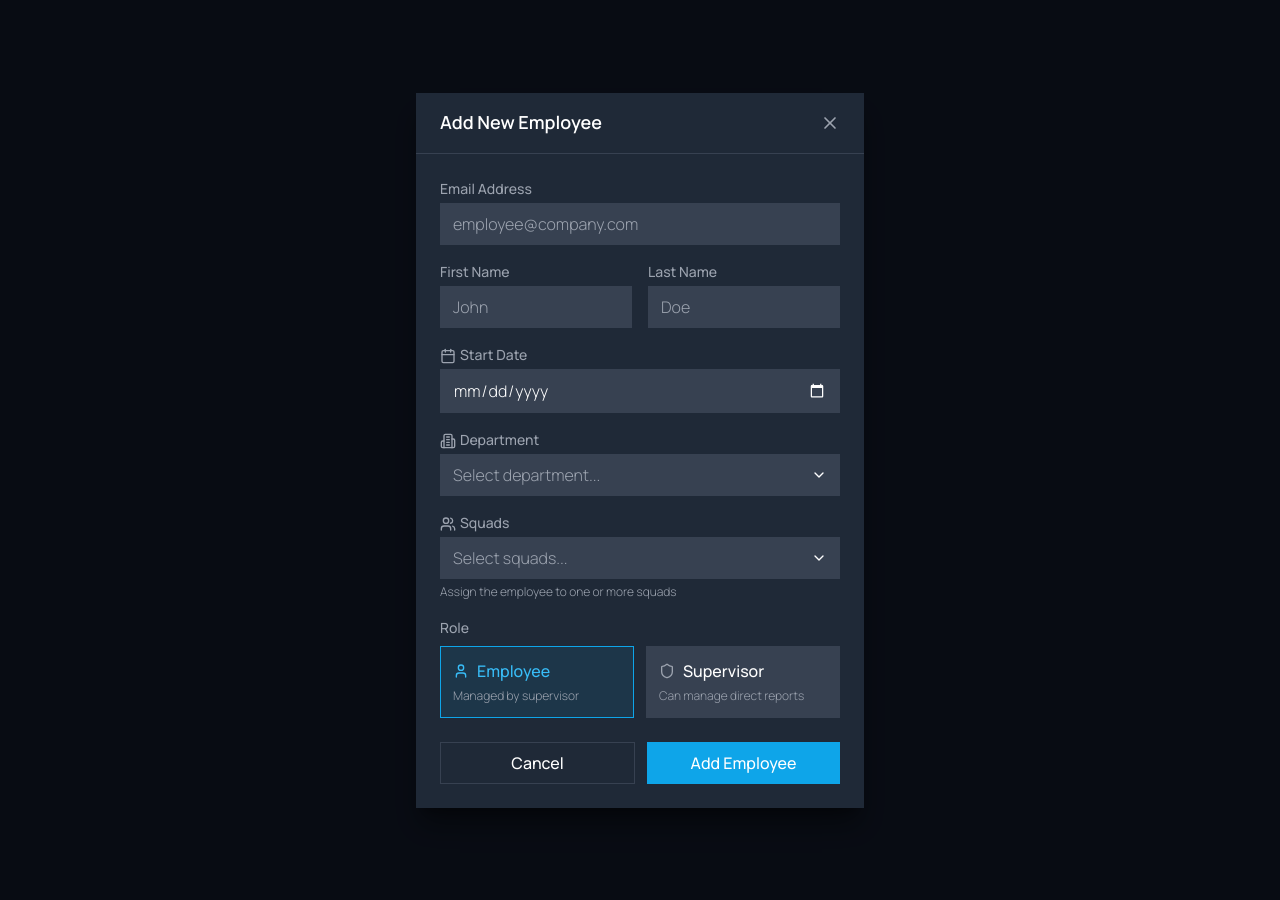
it: CreateEmployeeModal › squad multi-select › removes squad from chips
The image size is (1280, 900).
Open dropdown
Click the button "Select squads...": (510, 558) [440,536,840,578]
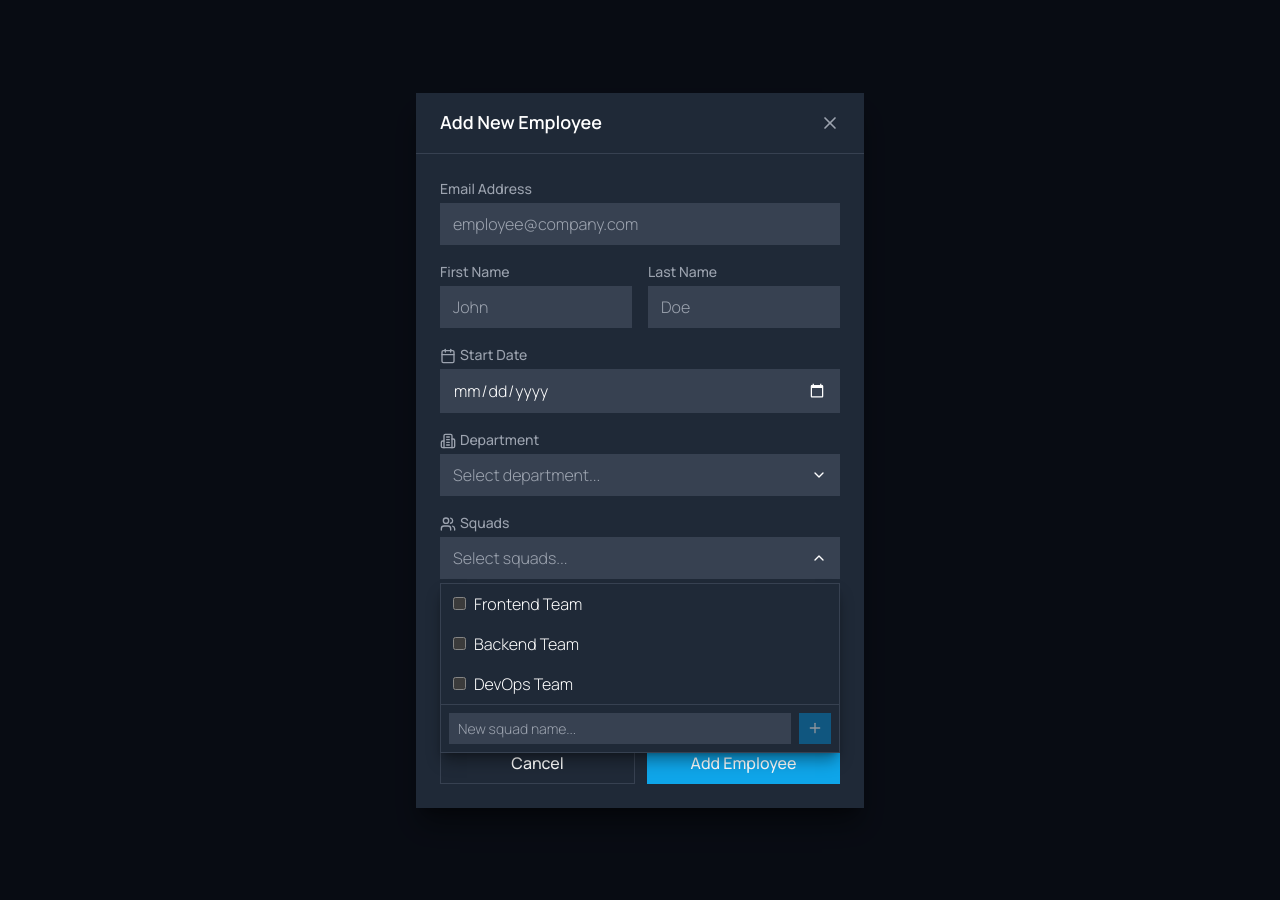
Click the text "Frontend Team": (528, 604) [474,592,582,616]
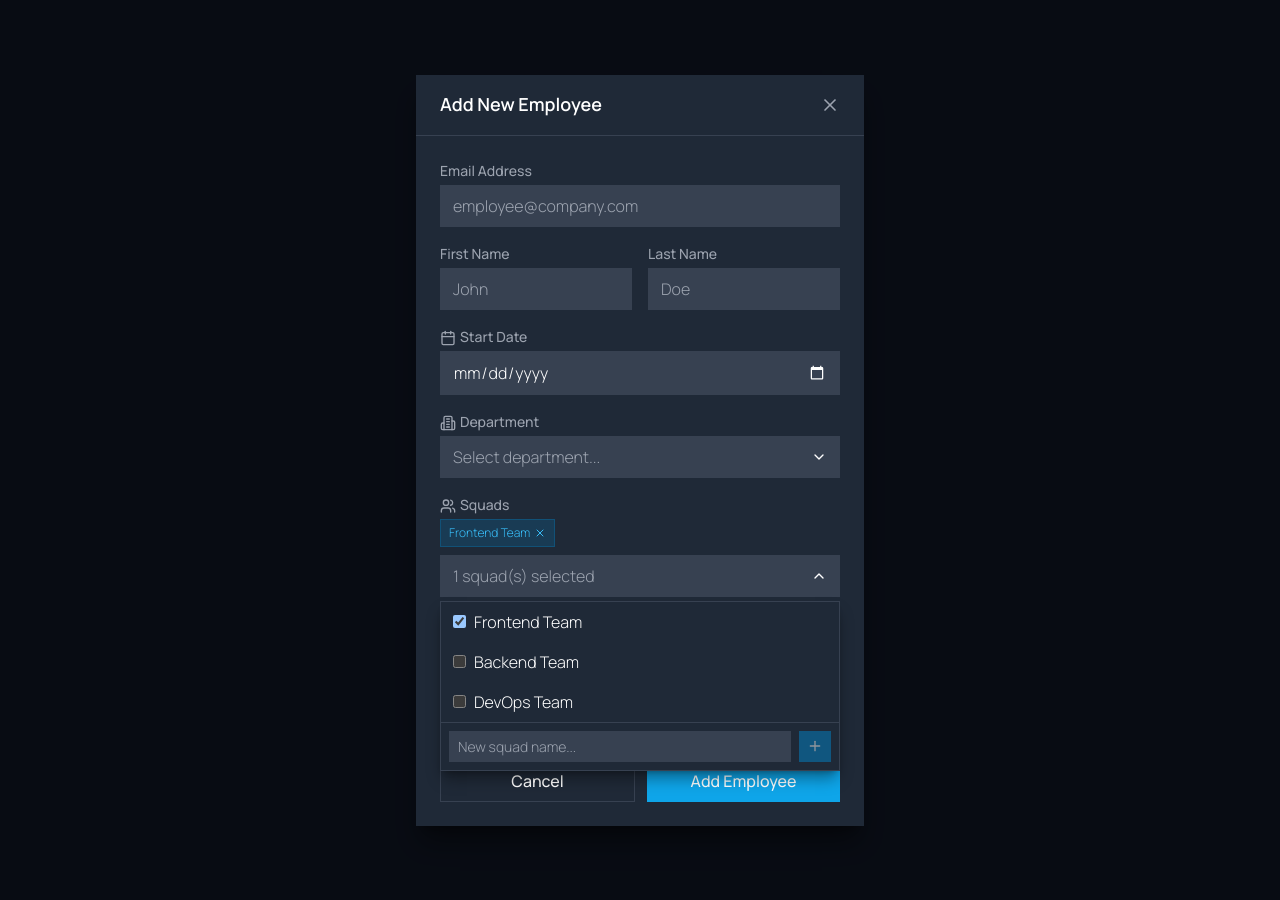
Close dropdown
Click the button "1 squad(s) selected": (524, 576) [440,554,840,596]
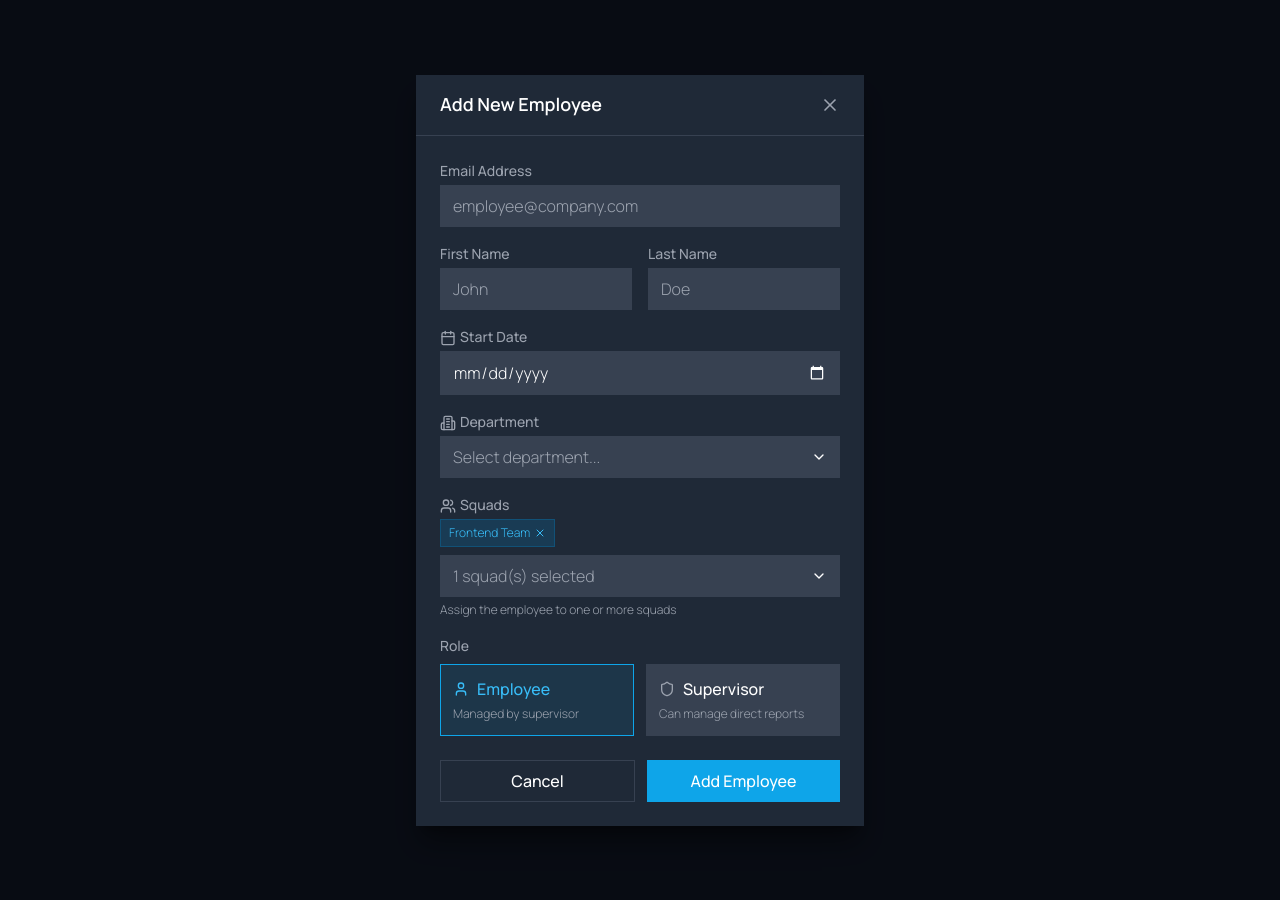
Find the chip's X button
Click the 3rd button: (540, 532) [534,526,546,538]
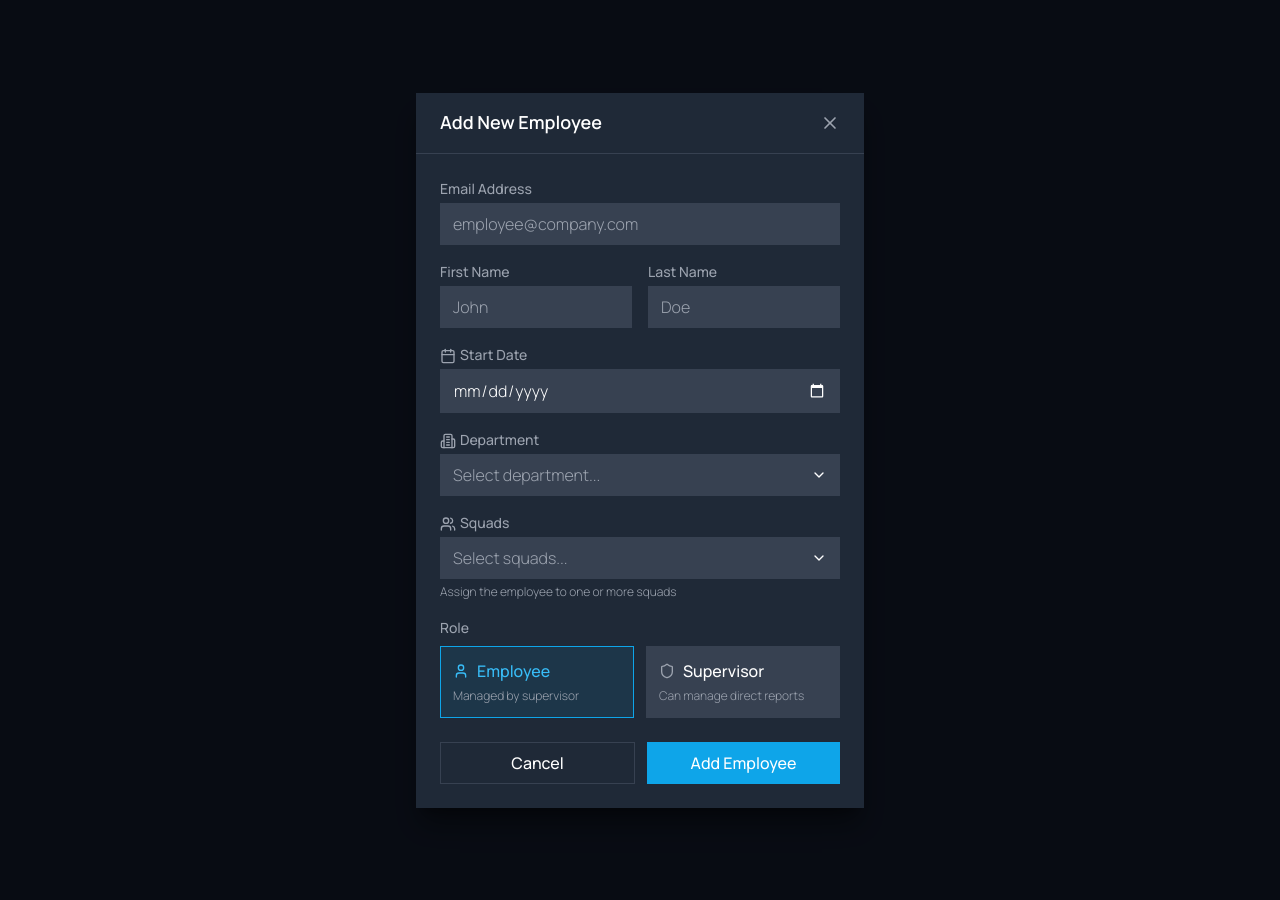
Expected: the text "Select squads..." is shown, [453,546,568,570]
